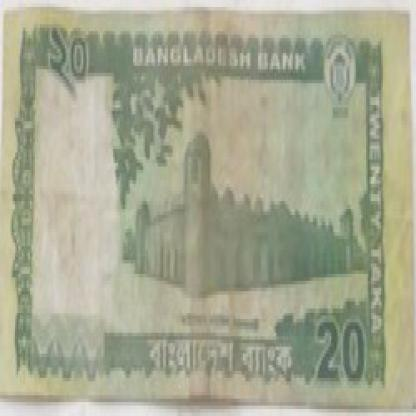Twenty: (304, 302, 370, 395), (39, 21, 102, 100)
